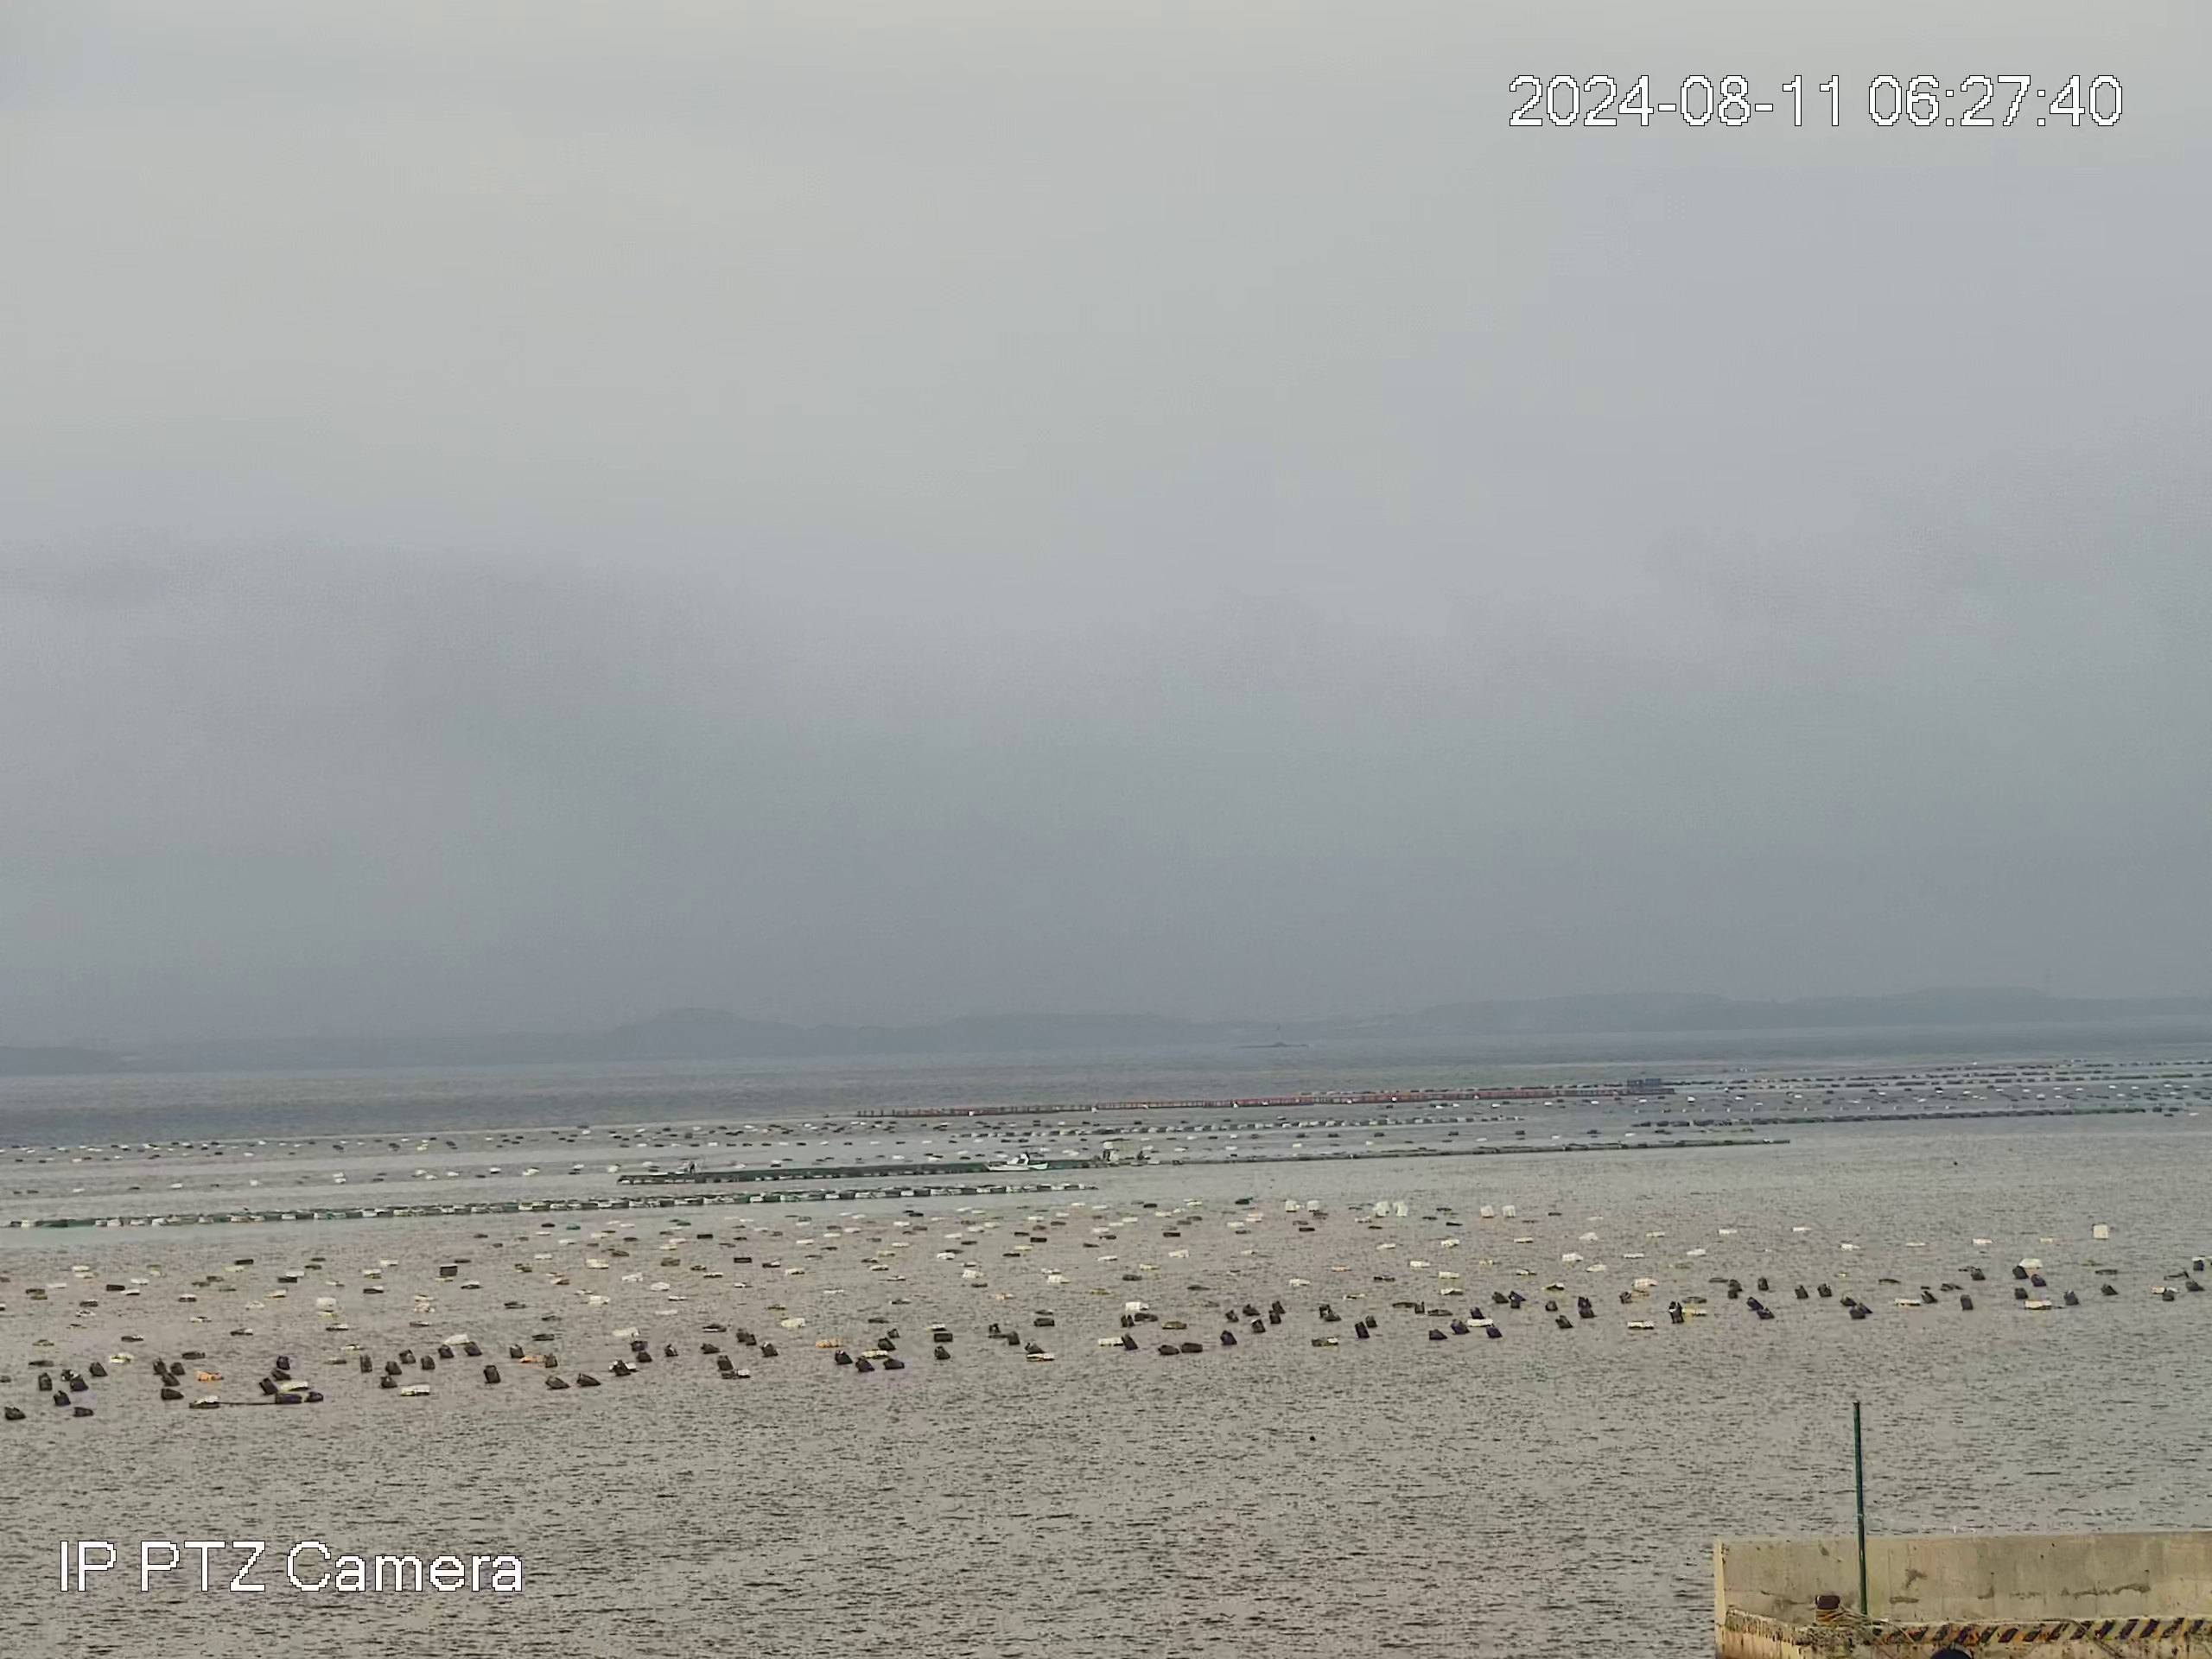boat: (982, 1150, 1049, 1173)
